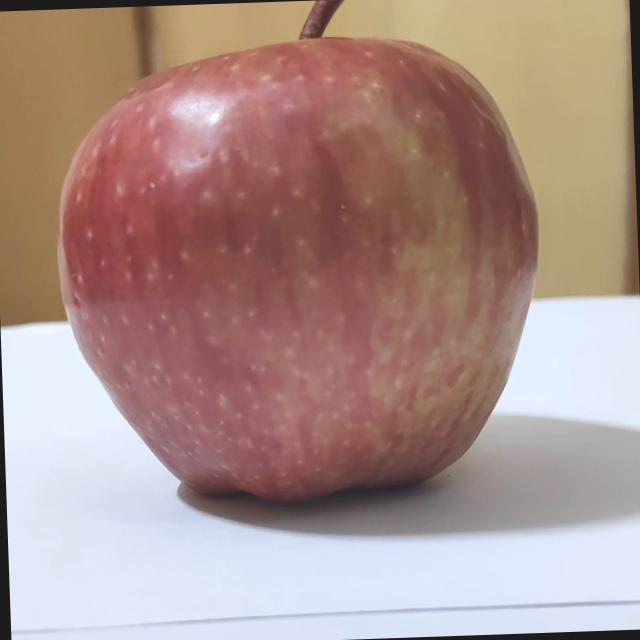apple: (40, 0, 548, 521)
